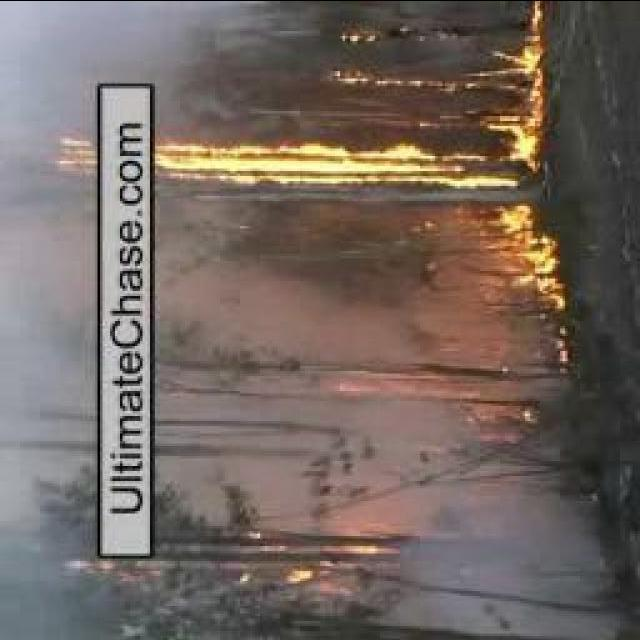Fire: (69, 127, 536, 188), (487, 204, 555, 310), (477, 6, 548, 87)
